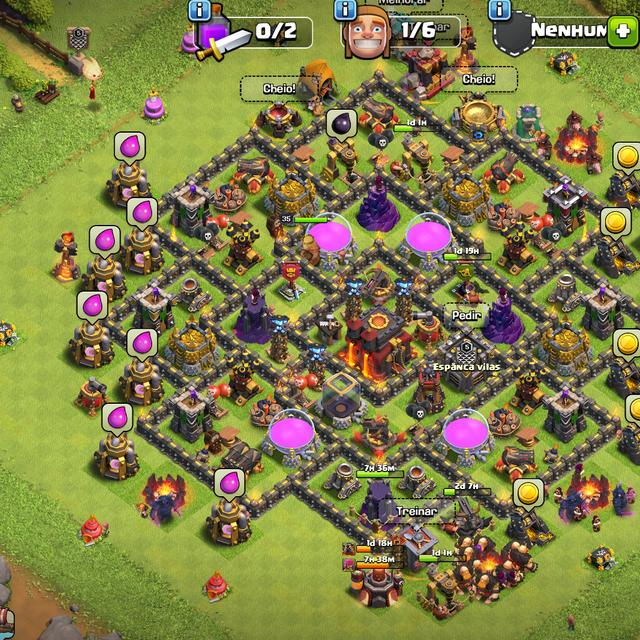Elixir: (113, 131, 147, 167), (125, 196, 159, 232), (101, 402, 134, 439), (76, 290, 110, 325), (88, 224, 121, 260), (125, 328, 158, 363), (214, 469, 246, 504)
ElixirNegro: (326, 109, 358, 144)
coin: (512, 477, 545, 513), (600, 206, 632, 243), (611, 139, 640, 176), (612, 328, 640, 362), (625, 395, 640, 432)
